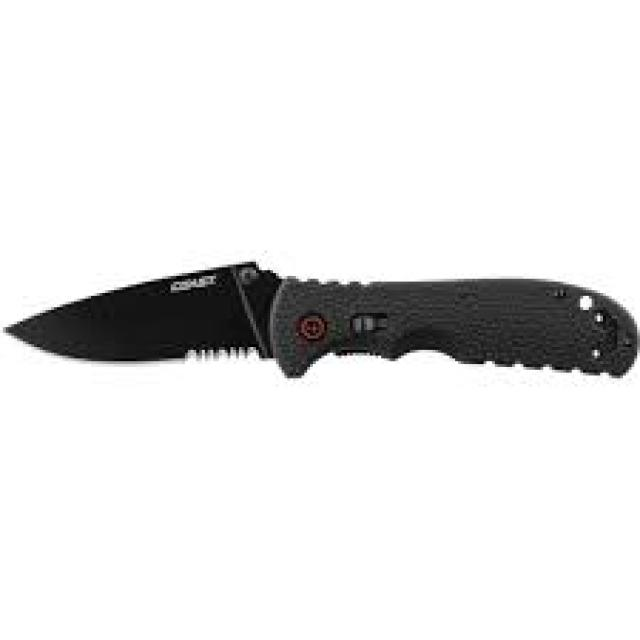knives: (0, 253, 637, 387)
